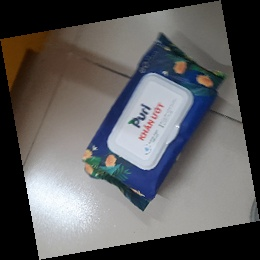Puri Xanh: (80, 31, 229, 214)
